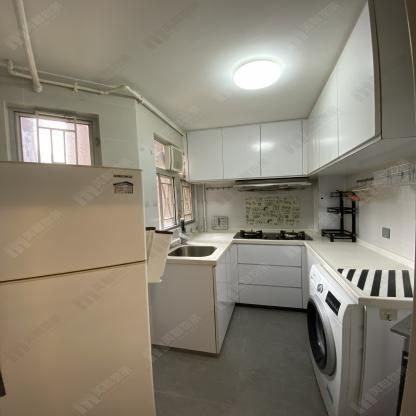Cupboard: (191, 3, 385, 180), (235, 243, 304, 310)
Exhaust Hood: (235, 176, 317, 193)
Faucet: (178, 217, 190, 244)
Fridge: (0, 161, 159, 414)
Sink: (171, 245, 216, 256)
Stove: (235, 226, 314, 241)
Washing Machine: (301, 263, 349, 416)
